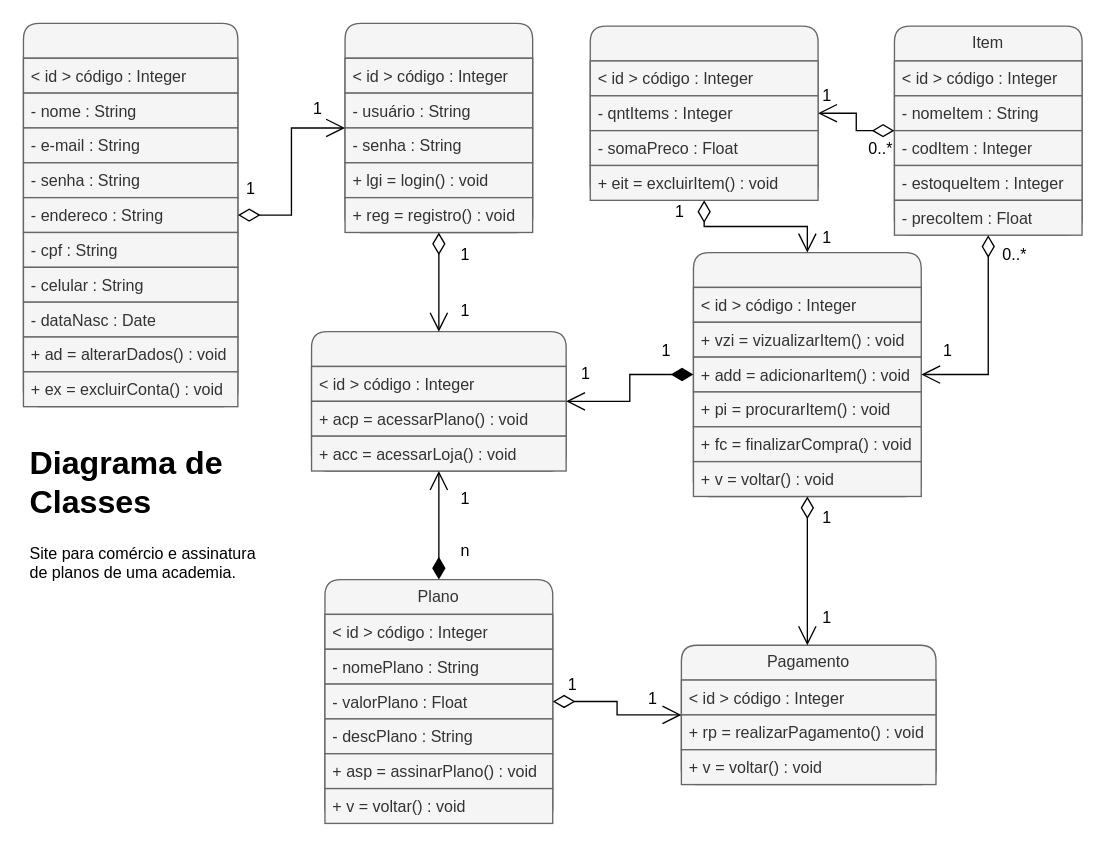
This 1106x851 diagram has some shape labels left out. Each missing label, with the box of its shape:
CarrinhoCompras: (589, 25, 818, 200)
Cliente: (22, 22, 238, 407)
Conta: (344, 22, 533, 232)
Loja: (692, 251, 921, 496)
Página: (310, 330, 566, 471)
